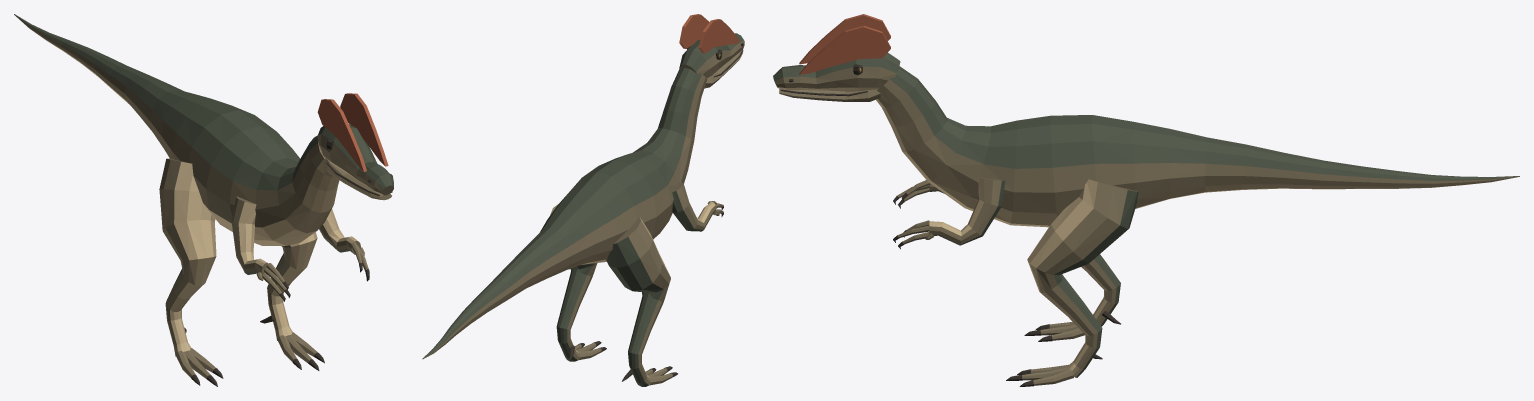
The picture shows the model from 3 angles, left to right: view 1: azimuth 30°, elevation 25°; view 2: azimuth 150°, elevation 25°; view 3: azimuth 270°, elevation 25°; orthographic projection. The views are drawn at different scales.
Parts seen in each view (by area): view 1: Dilophosaurus_Export_SixPaletteGroups; view 2: Dilophosaurus_Export_SixPaletteGroups; view 3: Dilophosaurus_Export_SixPaletteGroups.
Boxes of the visible parts, x1,y1,x2,y2 form: Dilophosaurus_Export_SixPaletteGroups: [14, 14, 393, 386]; Dilophosaurus_Export_SixPaletteGroups: [422, 14, 744, 386]; Dilophosaurus_Export_SixPaletteGroups: [773, 14, 1519, 386].
Size of the model in its own units: 1.21 by 2.99 by 6.
